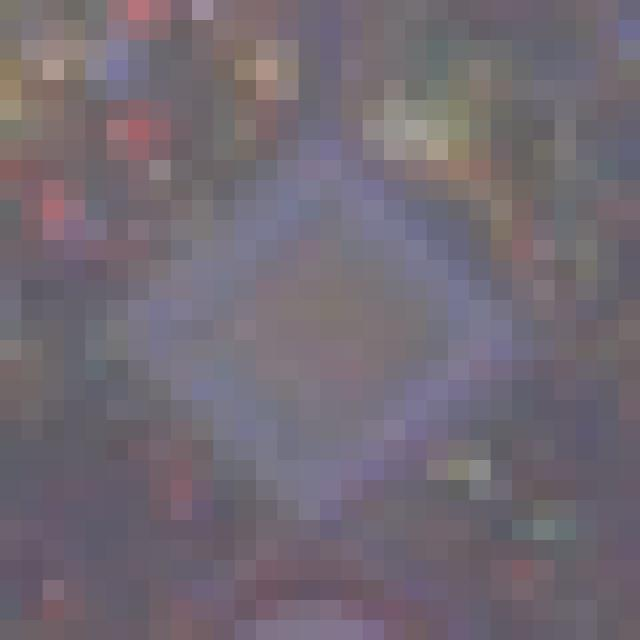Main Road: (108, 121, 534, 521)
